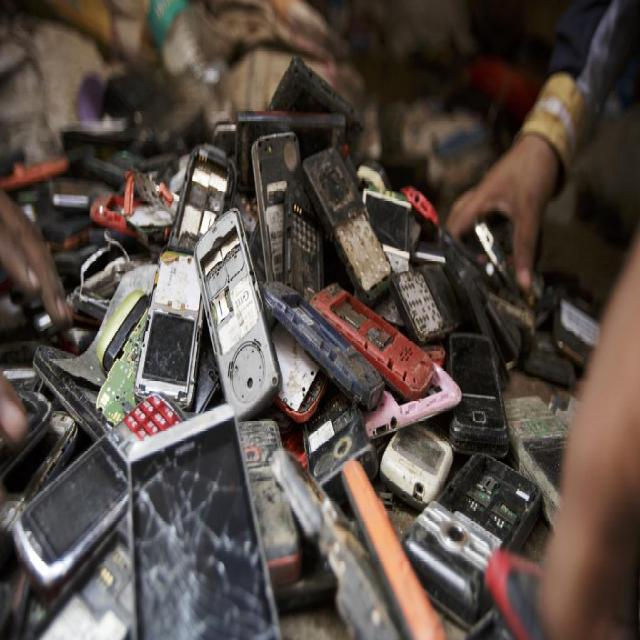hazard: (0, 123, 527, 587)
